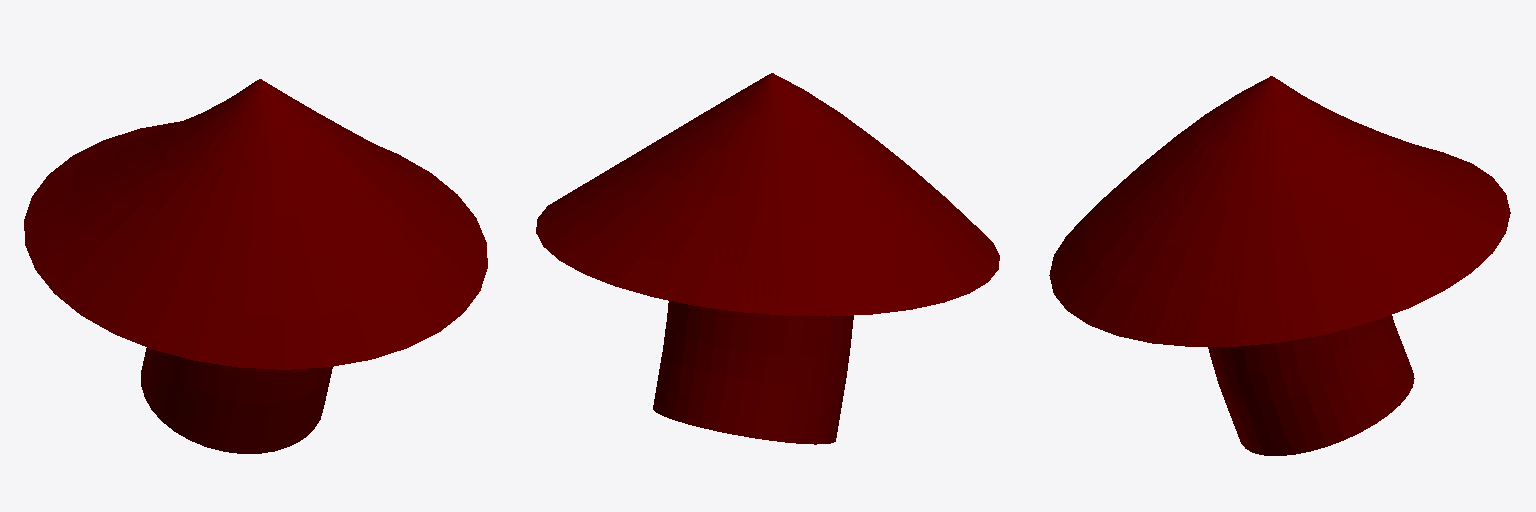
Rendered from 02_Arrow.obj.
3 views of the same model, side by side, from view 1: azimuth 30°, elevation 25°; view 2: azimuth 150°, elevation 25°; view 3: azimuth 270°, elevation 25° (orthographic).
Parts seen in each view (by area): view 1: Cylinder.002; view 2: Cylinder.002; view 3: Cylinder.002.
Part boxes in pixels (left/top/right/bottom): Cylinder.002: left=24, top=79, right=487, bottom=453; Cylinder.002: left=536, top=73, right=999, bottom=444; Cylinder.002: left=1049, top=76, right=1510, bottom=455.
Bounding box in the file's own units: 5 × 4.27 × 4.94.